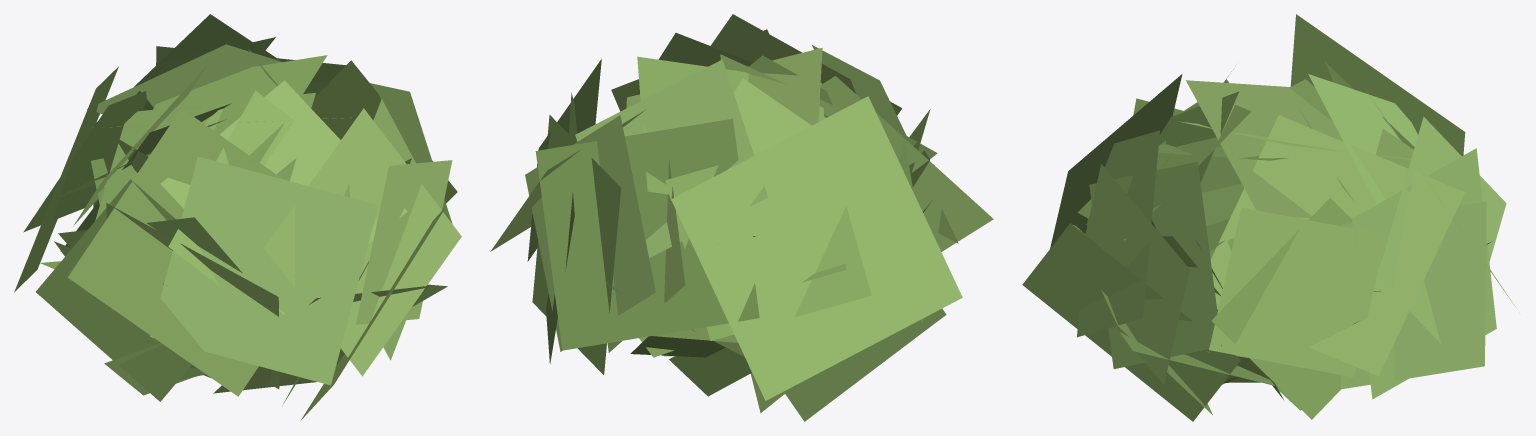
The model's file is bush_1.glb.
The picture shows the model from 3 angles, left to right: view 1: azimuth 30°, elevation 25°; view 2: azimuth 150°, elevation 25°; view 3: azimuth 270°, elevation 25°; orthographic projection. The views are drawn at different scales.
Parts seen in each view (by area): view 1: Bush; view 2: Bush; view 3: Bush.
Part boxes in pixels (x1,y1,x2,y2): Bush: [14, 14, 461, 421]; Bush: [490, 14, 993, 421]; Bush: [1022, 14, 1516, 421].
Bounding box in the file's own units: 1.93 × 1.51 × 2.01.
